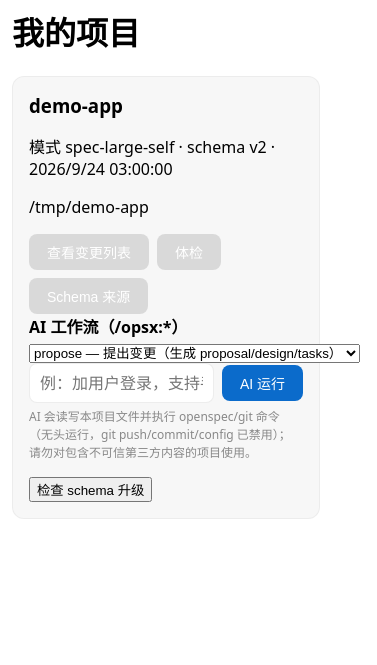
Test case: ProjectsPage 项目列表 › 命令非零退出码显示红色提示
Click the button "查看变更列表" at (89, 252), box top-left (29, 234), bottom-right (149, 270)
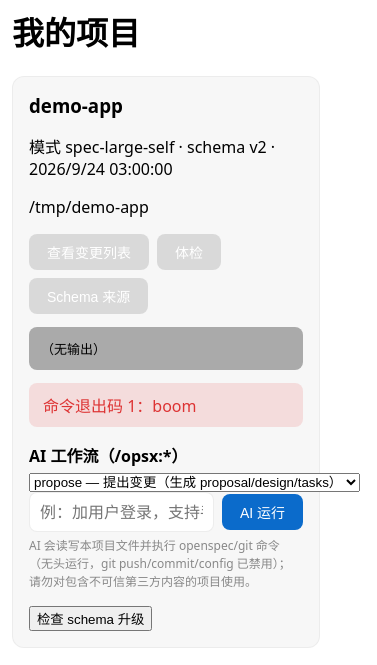
Expected: the text "命令退出码 1：boom" is shown, top-left (29, 383), bottom-right (303, 427)
